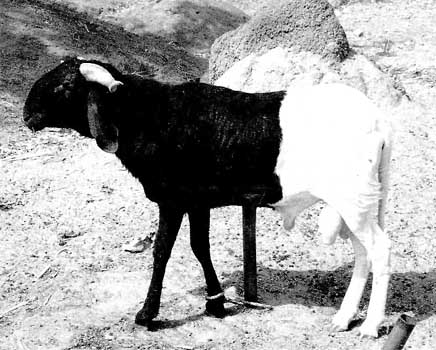sheep: (23, 56, 393, 338)
